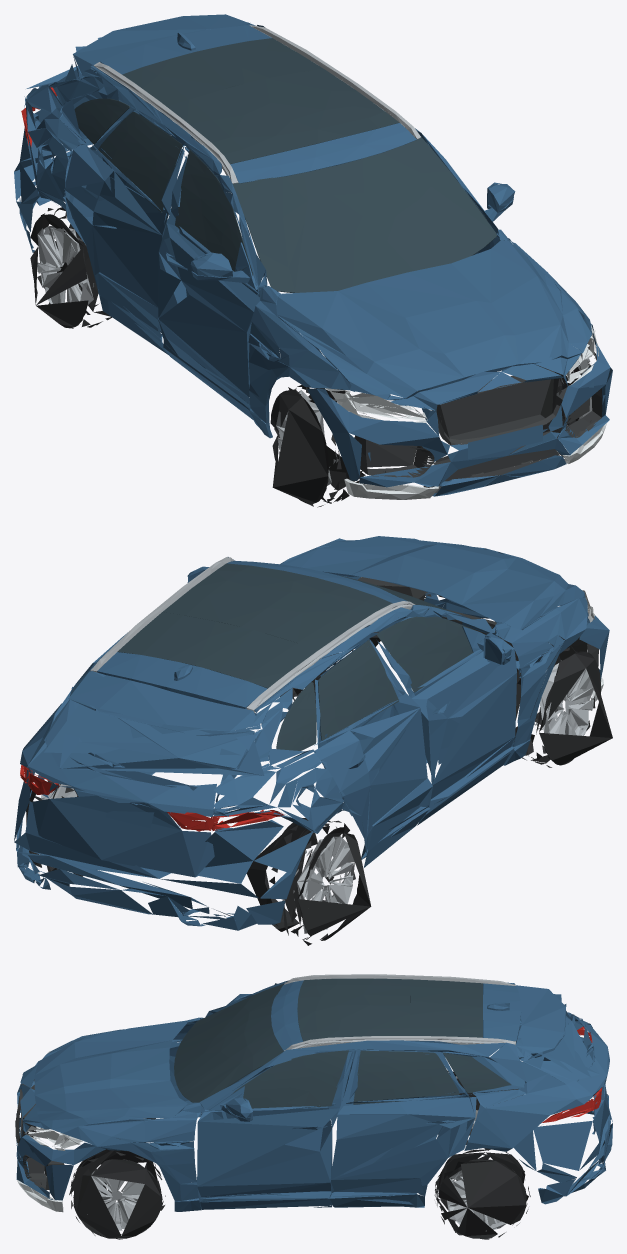
The model's file is jaguar-f-pace.glb.
3 views of the same model, one above another, from view 1: azimuth 30°, elevation 25°; view 2: azimuth 150°, elevation 25°; view 3: azimuth 270°, elevation 25° (orthographic). The views are drawn at different scales.
Parts seen in each view (by area): view 1: Hood, Windshield, Roof_Glass, Front_Bumper, R_Rear_Door, R_Front_Door, Grille, Tire, R_Quarter_Panel, Roof, R_Fender, Tailgate (+11 smaller); view 2: Tailgate, Roof_Glass, Rear_Bumper, Hood, R_Rear_Door, R_Front_Door, Tire, R_Quarter_Panel, Roof, R_Fender, Wheel, R_Rear_Window (+9 smaller); view 3: L_Front_Door, L_Rear_Door, Hood, Tire, Roof_Glass, L_Quarter_Panel, Windshield, Tailgate, L_Fender, Rear_Bumper, L_Rear_Window, L_Front_Window (+13 smaller).
Boxes of the visible parts, left/top/right/bottom form: Hood: left=276, top=240, right=591, bottom=400; Windshield: left=232, top=137, right=496, bottom=292; Roof_Glass: left=122, top=38, right=399, bottom=164; Front_Bumper: left=307, top=324, right=612, bottom=496; R_Rear_Door: left=64, top=109, right=184, bottom=354; R_Front_Door: left=158, top=155, right=260, bottom=419; Grille: left=355, top=369, right=602, bottom=493; Tire: left=30, top=207, right=601, bottom=507; R_Quarter_Panel: left=24, top=65, right=267, bottom=291; Roof: left=100, top=25, right=416, bottom=183; R_Fender: left=248, top=286, right=355, bottom=438; Tailgate: left=26, top=14, right=255, bottom=143; Tailgate: left=28, top=671, right=266, bottom=877; Roof_Glass: left=117, top=563, right=392, bottom=688; Rear_Bumper: left=14, top=767, right=313, bottom=930; Hood: left=281, top=536, right=585, bottom=629; R_Rear_Door: left=314, top=639, right=432, bottom=867; R_Front_Door: left=377, top=617, right=516, bottom=825; Tire: left=26, top=632, right=612, bottom=945; R_Quarter_Panel: left=213, top=605, right=498, bottom=833; Roof: left=97, top=561, right=407, bottom=708; R_Fender: left=494, top=598, right=587, bottom=765; Wheel: left=40, top=663, right=593, bottom=933; R_Rear_Window: left=318, top=640, right=398, bottom=740; L_Front_Door: left=197, top=1049, right=354, bottom=1209; L_Rear_Door: left=330, top=1049, right=476, bottom=1207; Hood: left=34, top=1020, right=187, bottom=1133; Tire: left=69, top=1070, right=530, bottom=1239; Roof_Glass: left=297, top=978, right=482, bottom=1041; L_Quarter_Panel: left=199, top=1020, right=593, bottom=1151; Windshield: left=174, top=983, right=284, bottom=1102; Tailgate: left=516, top=985, right=609, bottom=1135; L_Fender: left=63, top=1102, right=204, bottom=1211; Rear_Bumper: left=513, top=1037, right=612, bottom=1204; L_Rear_Window: left=353, top=1050, right=459, bottom=1104; L_Front_Window: left=231, top=1050, right=348, bottom=1108.
Size of the model in its own units: 2.53 by 1.73 by 4.95.
